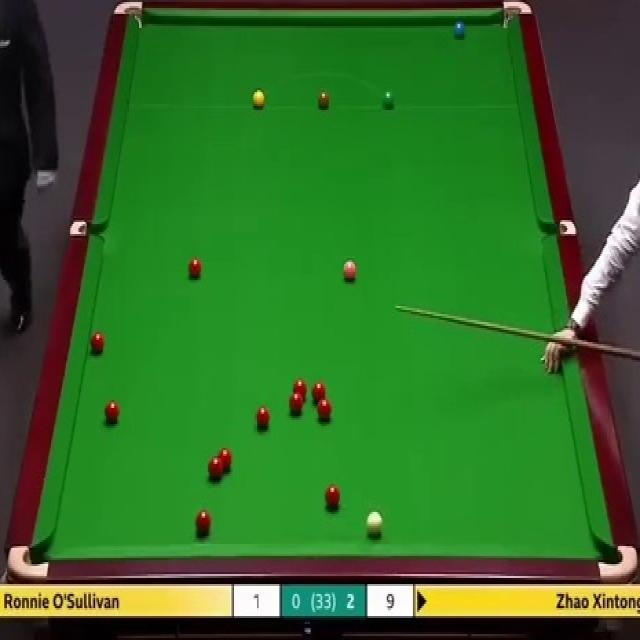blue-ball: (451, 18, 467, 42)
brown-ball: (317, 91, 331, 111)
green-ball: (380, 90, 394, 112)
pink-ball: (341, 256, 360, 284)
red-ball: (195, 508, 213, 536), (103, 398, 120, 426), (206, 457, 225, 482), (88, 330, 105, 356), (188, 256, 204, 280), (256, 408, 272, 432), (325, 485, 340, 510), (288, 393, 304, 416), (291, 379, 308, 400), (218, 448, 234, 470), (317, 398, 332, 420), (311, 382, 327, 402)
white-ball: (366, 511, 383, 537)
yellow-ball: (252, 90, 266, 110)
